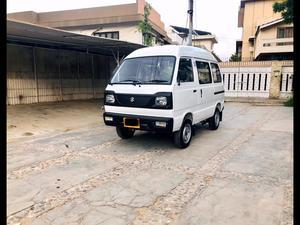windshield: (106, 54, 177, 90)
